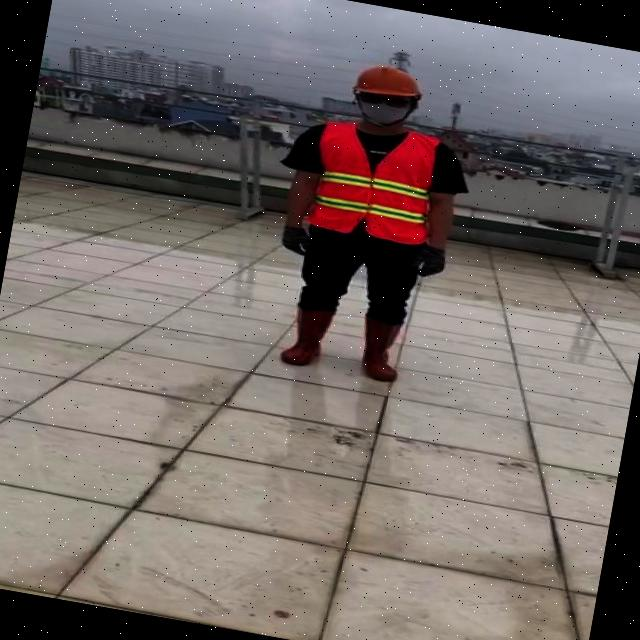boots: (274, 302, 340, 372), (350, 313, 412, 384)
